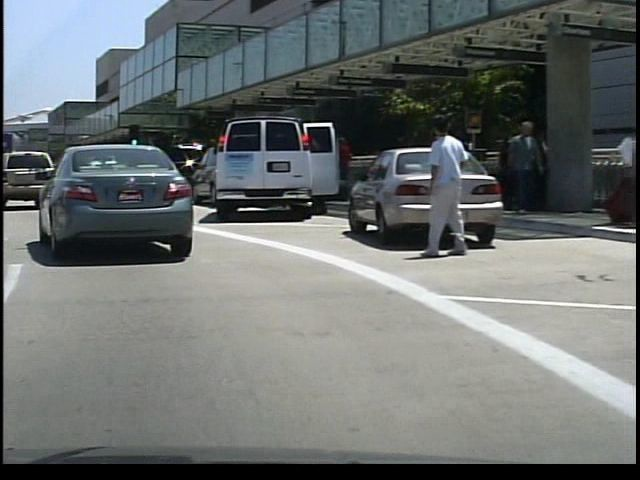person: (413, 109, 466, 259), (499, 116, 543, 216), (329, 131, 354, 207)
